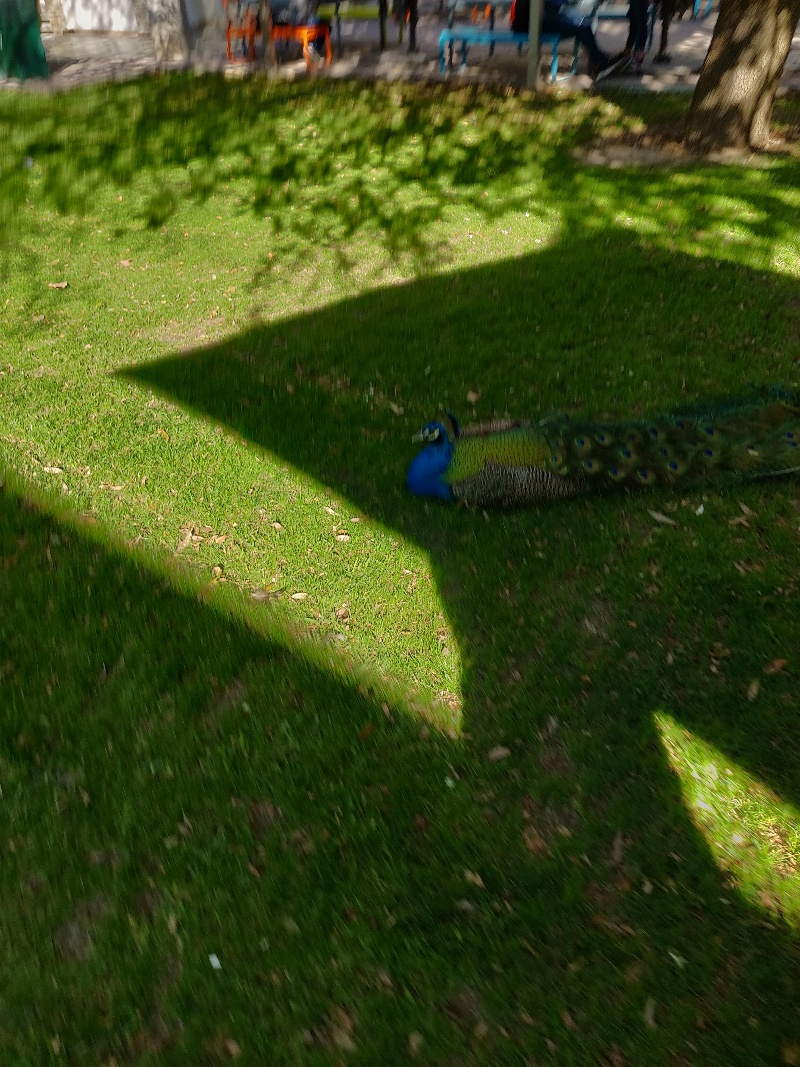pavoreal: (416, 412, 713, 500)
